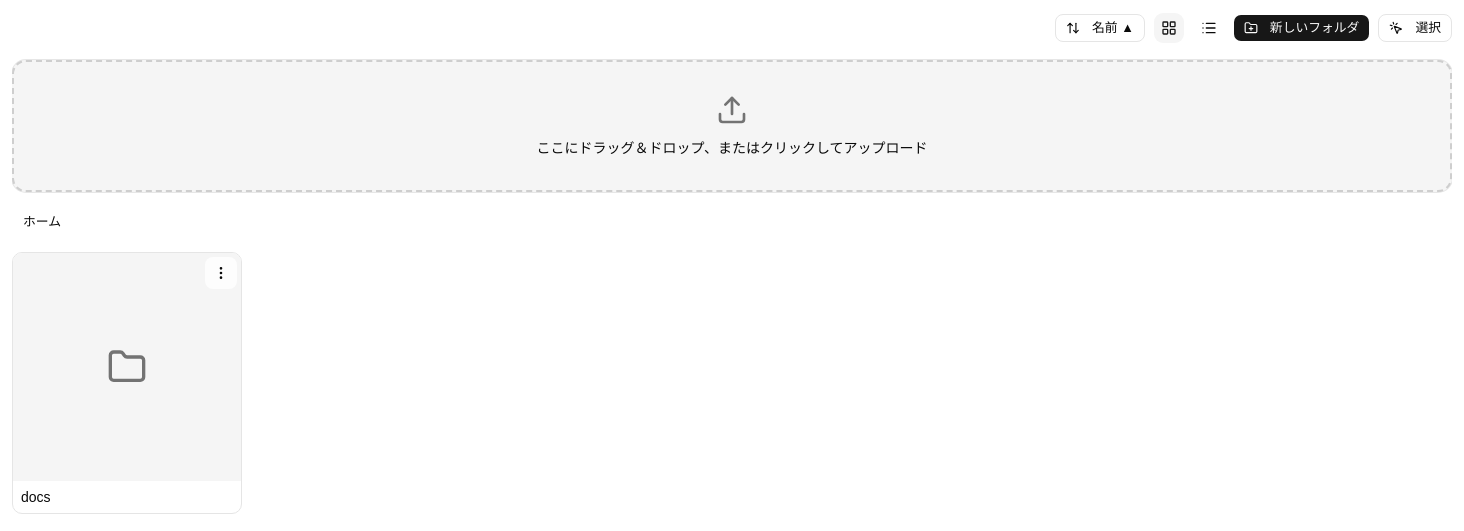
it: FileBrowser › フォルダを開くとそのパスで再取得する
Click the text "docs". click: (36, 497)
box: [21,489,51,505]
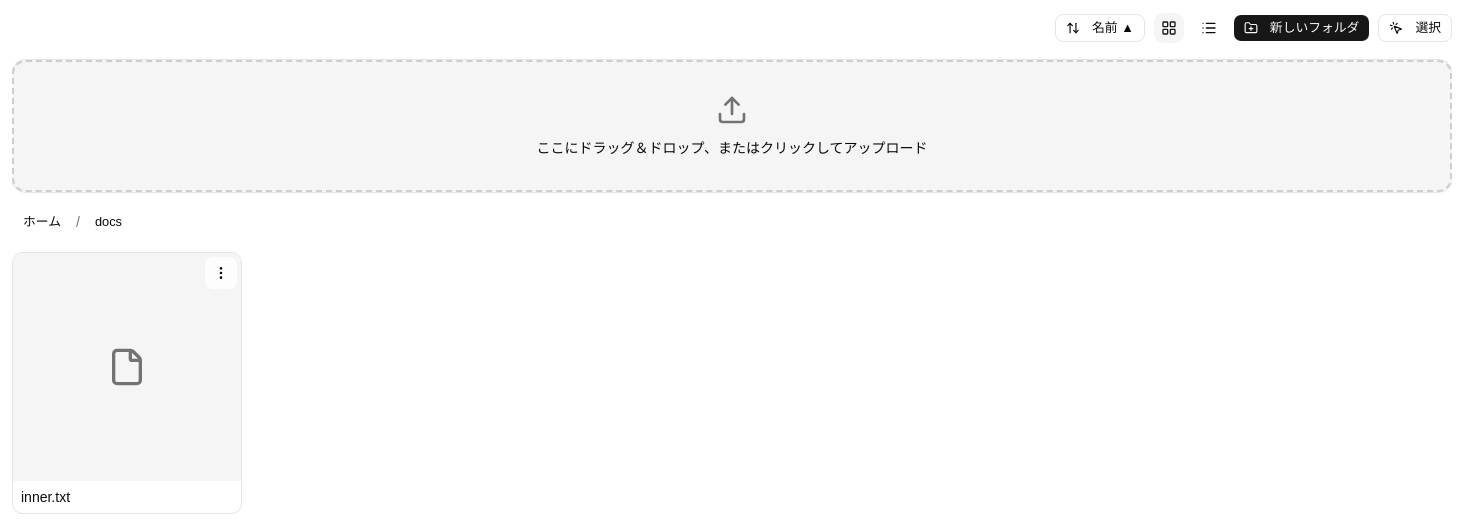
Expected: the text "inner.txt" is shown, [21,489,70,505]
